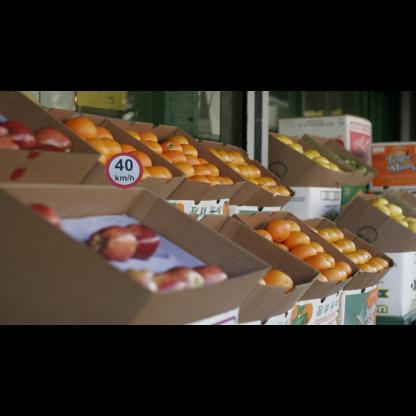R-19: (105, 152, 143, 188)
